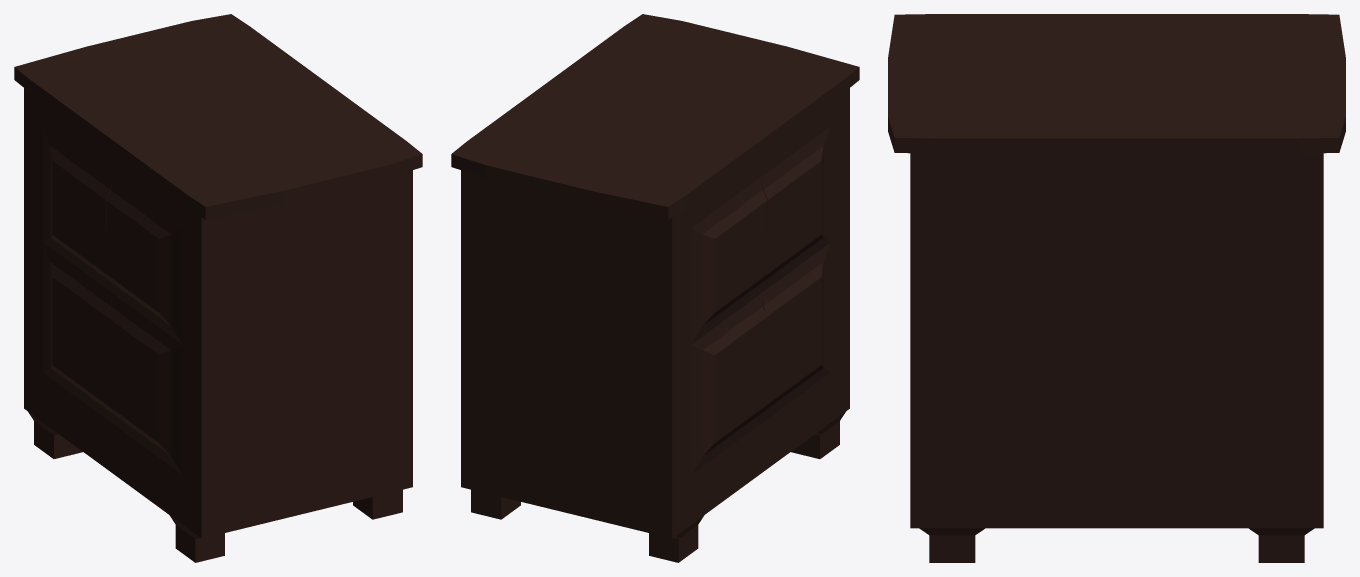
Rendered from M_Dresser02.fbx.
3 renders of one model, left to right at view 1: azimuth 30°, elevation 25°; view 2: azimuth 150°, elevation 25°; view 3: azimuth 270°, elevation 25°, orthographic. The views are drawn at different scales.
Visible parts, largest first — view 1: dresserB.003; view 2: dresserB.003; view 3: dresserB.003.
Boxes of the visible parts, bbox=[...] form: dresserB.003: bbox=[14, 14, 422, 562]; dresserB.003: bbox=[451, 14, 859, 562]; dresserB.003: bbox=[888, 14, 1345, 562].
Size of the model in its own units: 38.75 by 61.35 by 59.47.
